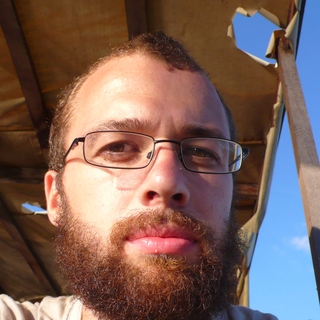eye: (177, 132, 235, 175), (85, 132, 147, 167)
